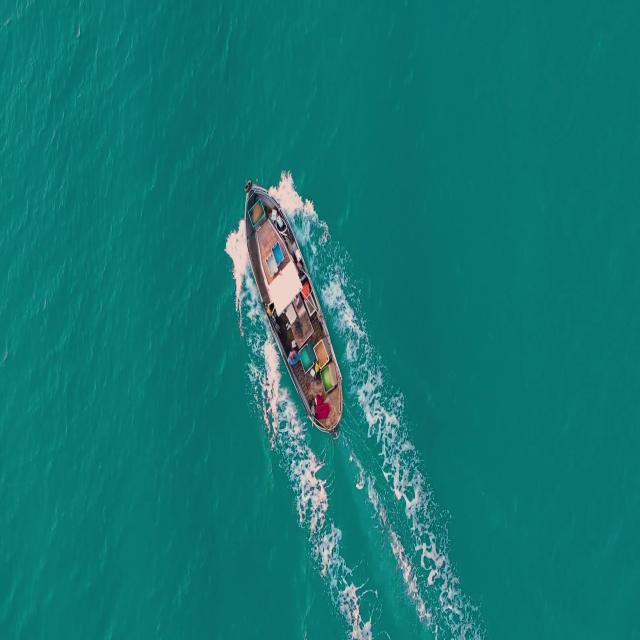ship: (241, 179, 350, 437)
